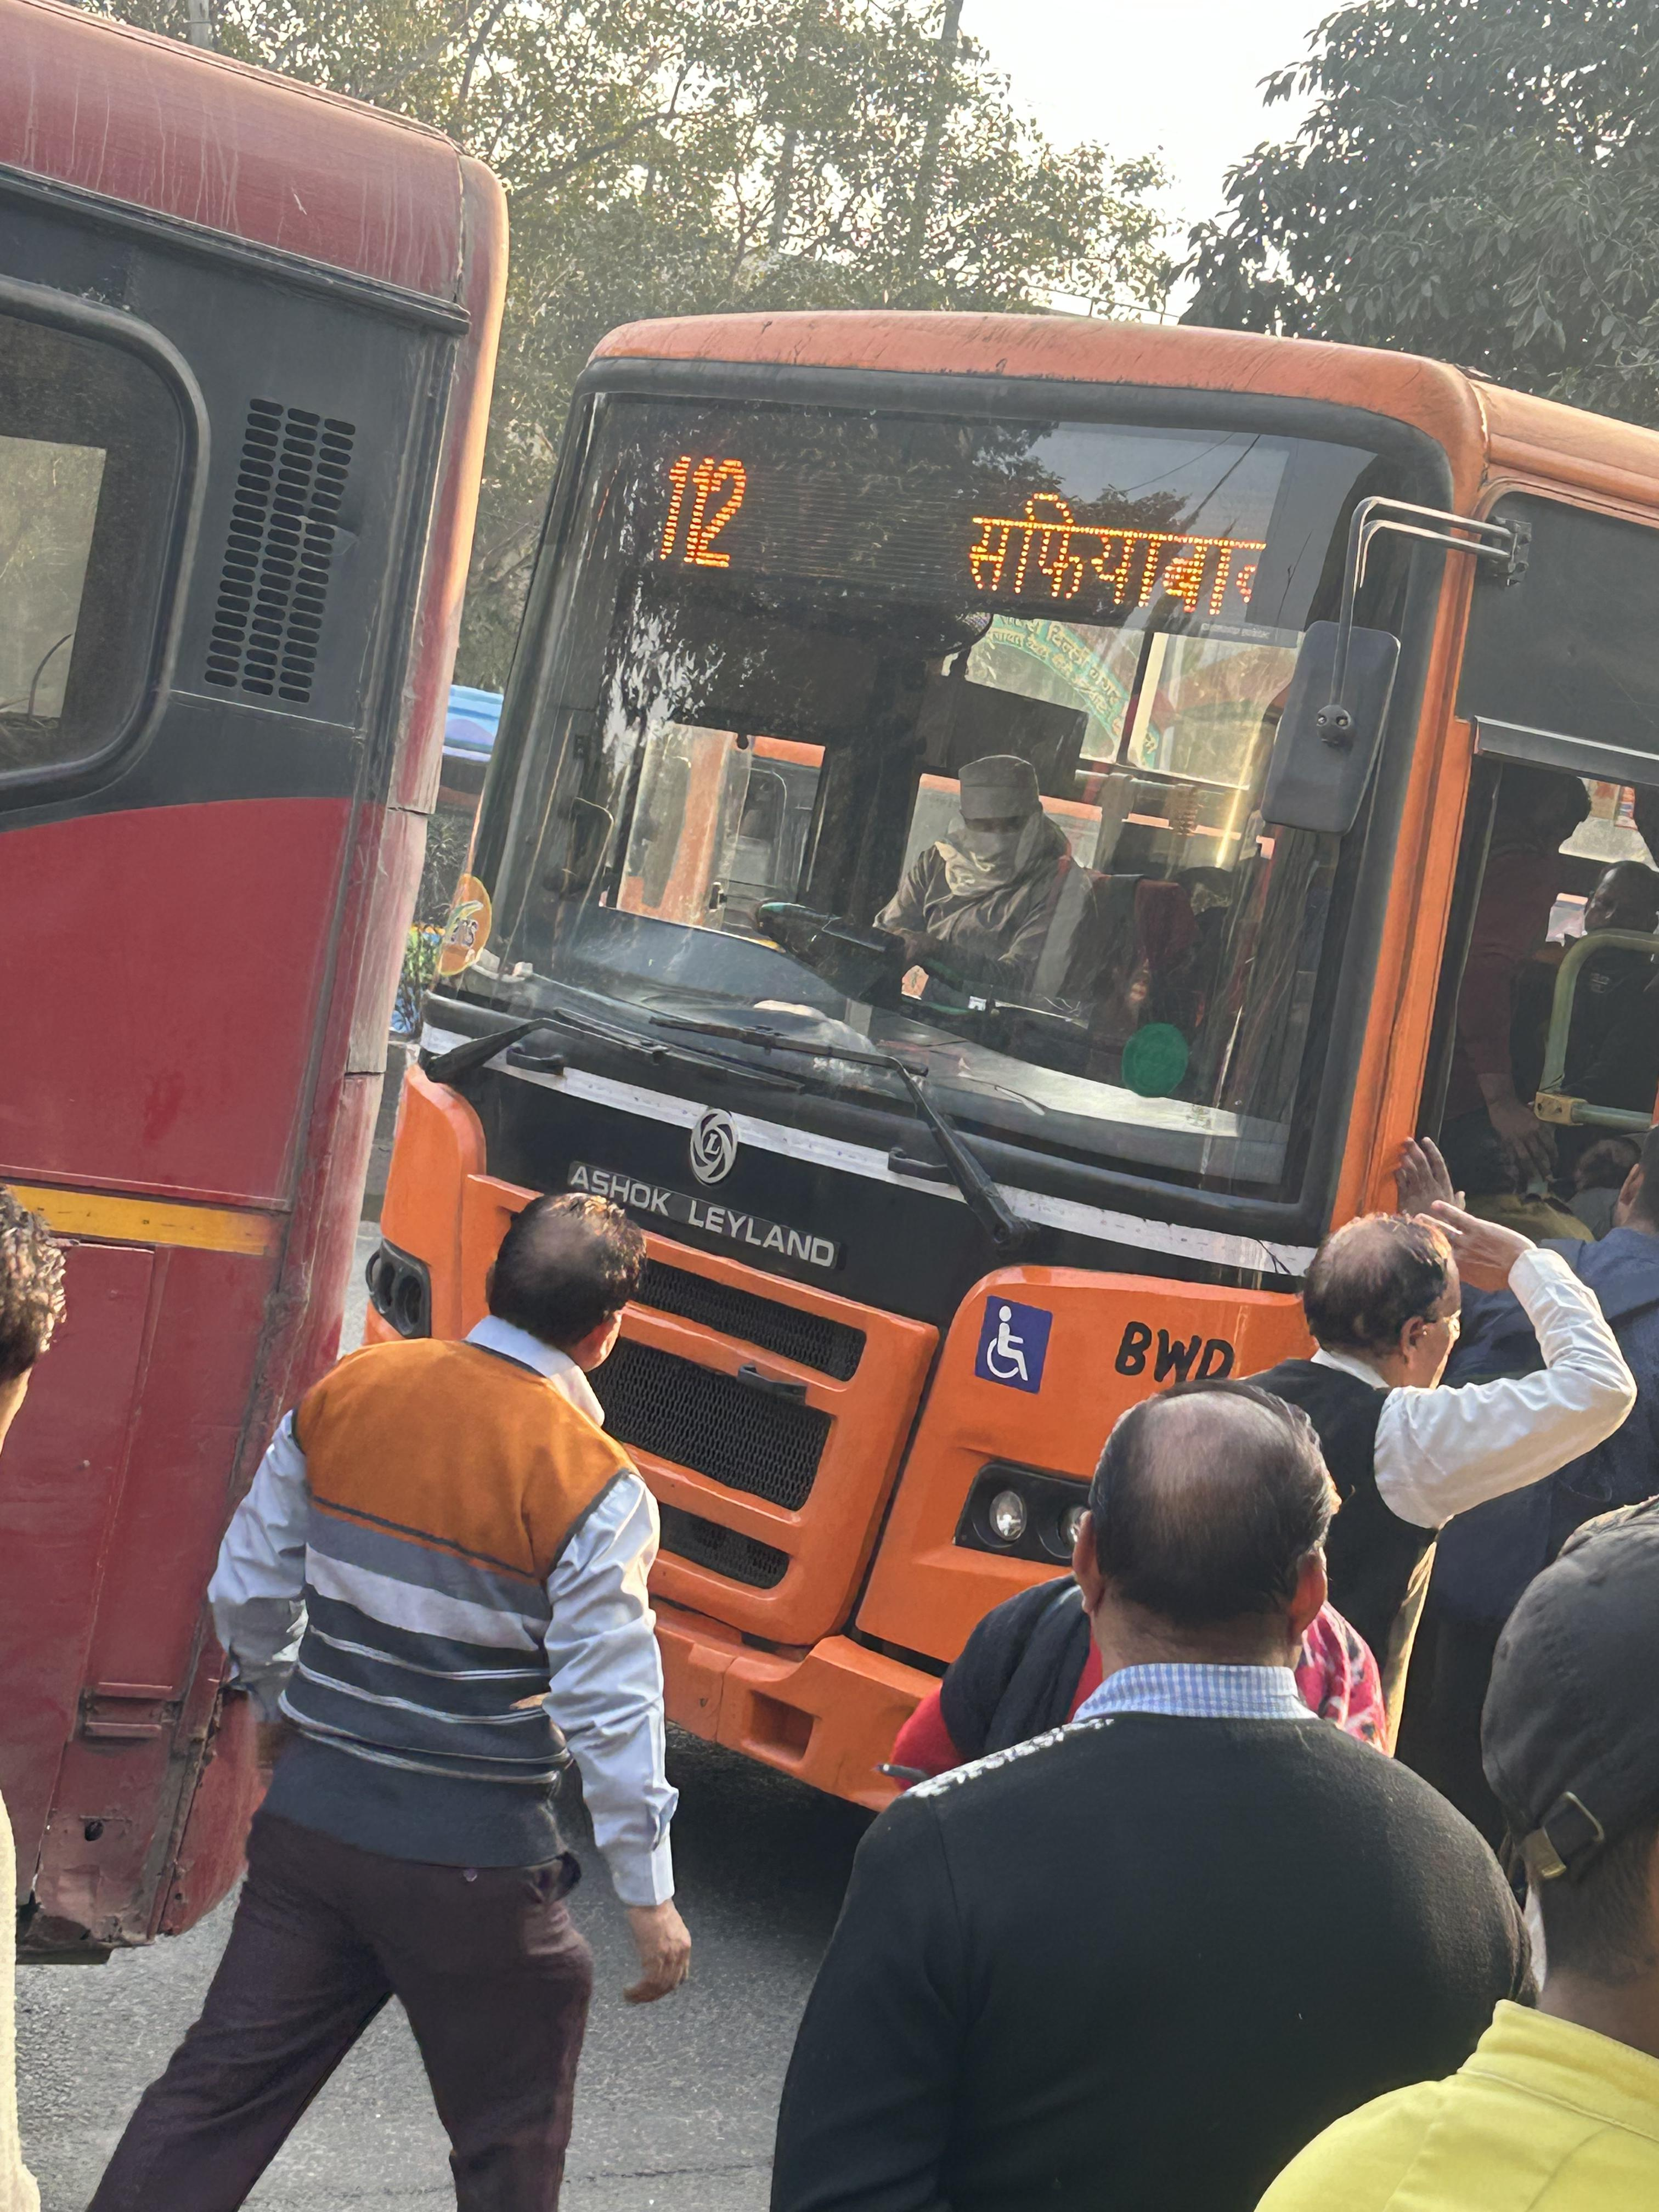Bus: (281, 286, 1497, 1761), (0, 0, 493, 2024)
Display Board: (554, 319, 1466, 664)
